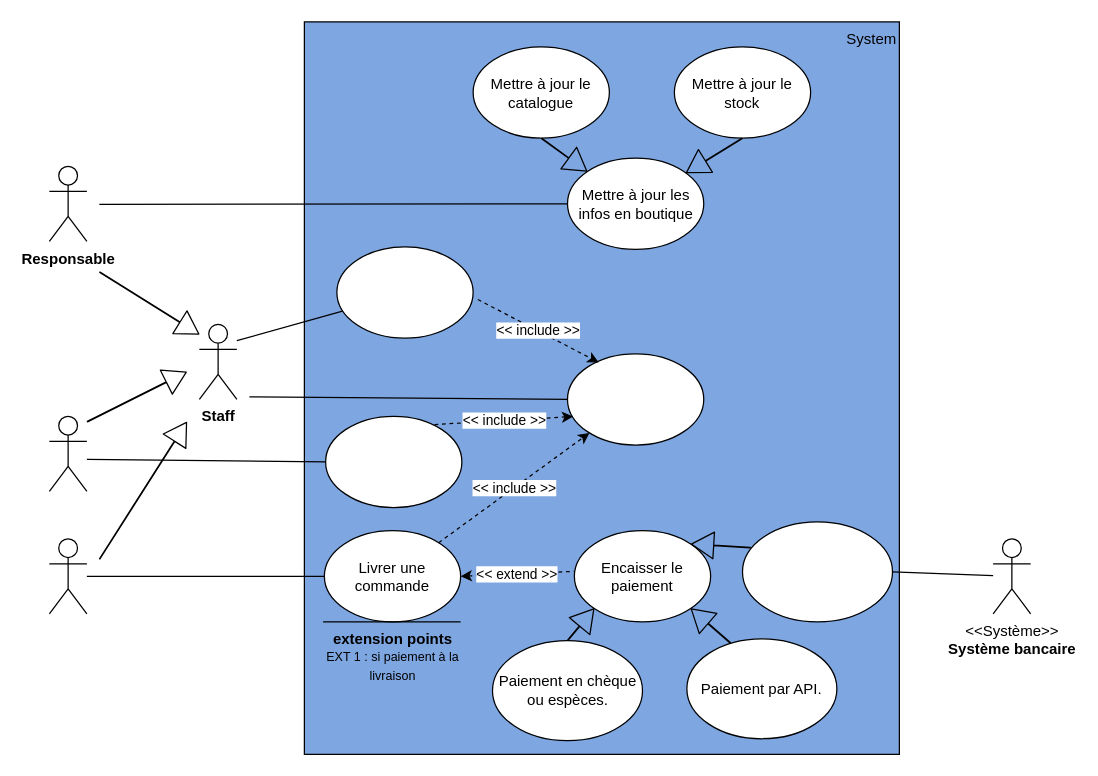
This 1098x776 diagram has some shape labels left out. The box of each missing label's shape, as (x1, y1, x2, y2) in pixels:
Consulter l'aide-mémoire d'une commande: (324, 415, 462, 508)
Consulter les commandes en cours: (566, 352, 704, 445)
Livreur: (48, 538, 87, 614)
Mettre à jour le statut d'une commande: (336, 246, 473, 338)
Paiement par CB: (741, 521, 892, 622)
Pizzaiolo: (48, 415, 87, 491)
